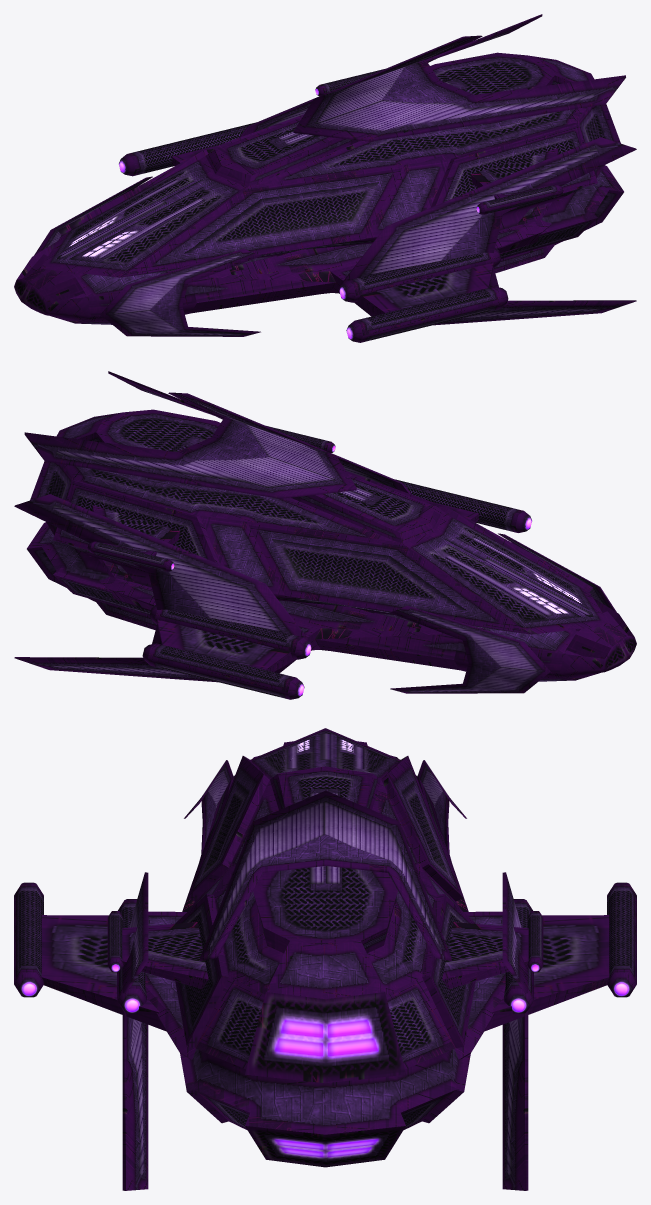
The model's file is traiwyndBattleship.FBX.
3 views of the same model, one above another, from view 1: azimuth 30°, elevation 25°; view 2: azimuth 150°, elevation 25°; view 3: azimuth 270°, elevation 25° (orthographic). The views are drawn at different scales.
Parts seen in each view (by area): view 1: Fighter; view 2: Fighter; view 3: Fighter.
Part boxes in pixels (box(x1,y1,x2,y2)): Fighter: box(14, 14, 636, 342); Fighter: box(14, 371, 636, 699); Fighter: box(14, 728, 636, 1190).
Bounding box in the file's own units: 47.6 × 15.92 × 33.66.
1 material, 1 textured.
